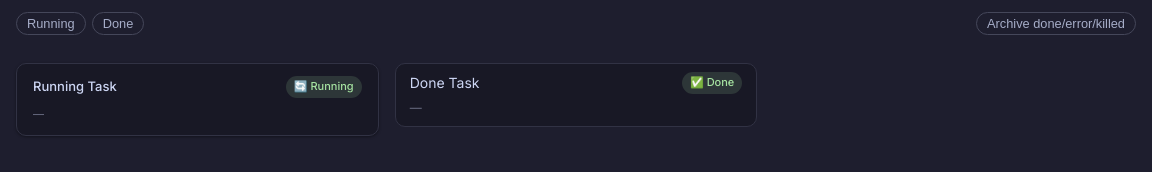
Test: SessionGrid › filter toggle pills apply and clear correctly
Expected: the text "Running Task" is shown, [33,78,117,94]
Expected: the text "Done Task" is shown, [410,74,480,91]
Note: Click Running filter
Click the button "Running".
click(51, 24)  # box [16,12,86,35]
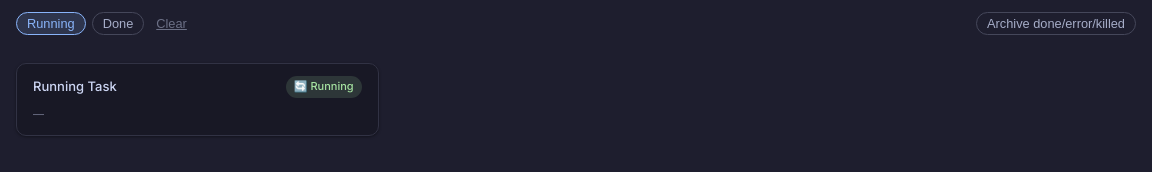
Expected: the text "Running Task" is shown, [33,78,117,94]
Now the button "Done Task" is gone
Note: Clear filter
Click the button "Clear".
click(172, 24)  # box [150,13,193,34]
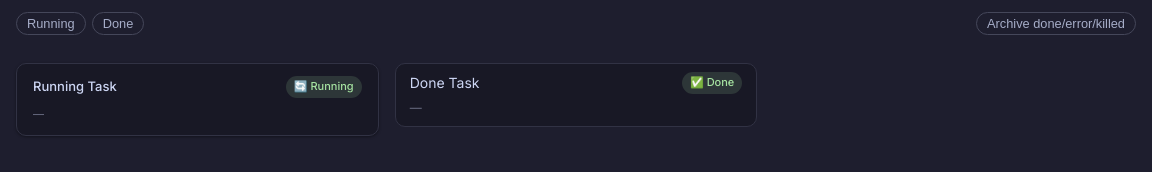
Expected: the text "Running Task" is shown, [33,78,117,94]
Now the text "Done Task" is shown, box [410,74,480,91]
